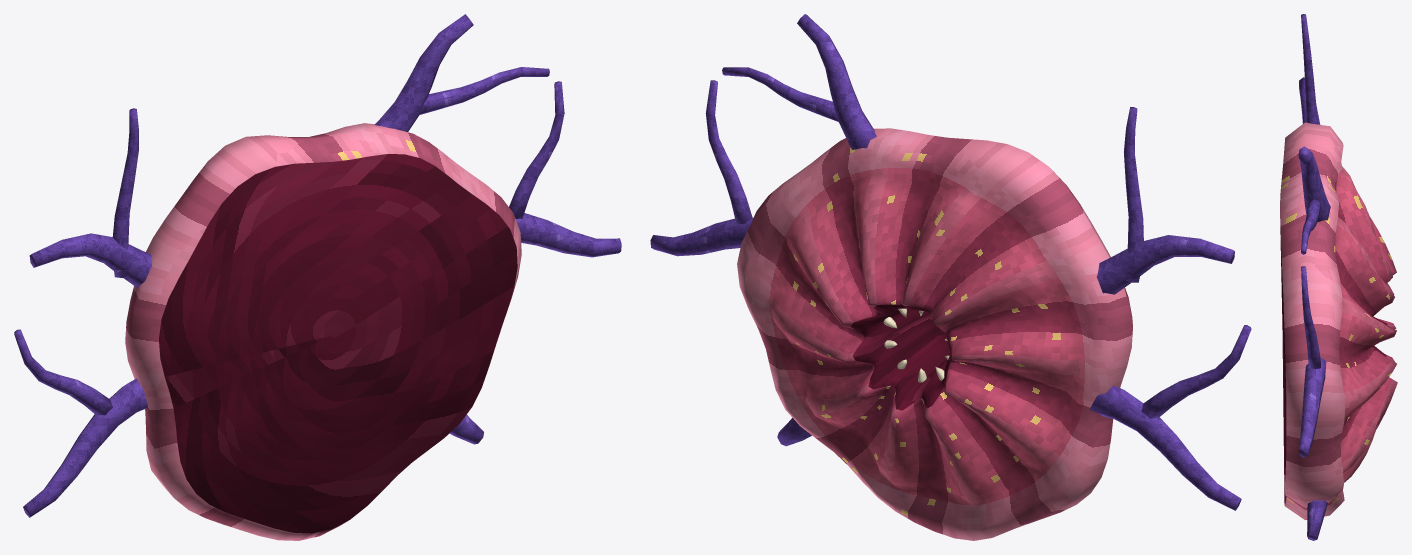
The model's file is s_sphincter.glb.
3 renders of one model, left to right at view 1: azimuth 30°, elevation 25°; view 2: azimuth 150°, elevation 25°; view 3: azimuth 270°, elevation 25°, orthographic. The views are drawn at different scales.
Parts seen in each view (by area): view 1: sphincter_sp_muscle_pulse, sphincter_gut_vein_pulse; view 2: sphincter_sp_muscle_pulse, sphincter_gut_vein_pulse; view 3: sphincter_sp_muscle_pulse, sphincter_gut_vein_pulse.
Boxes of the visible parts, x1=… form: sphincter_sp_muscle_pulse: x1=125, y1=123, x2=521, y2=540; sphincter_gut_vein_pulse: x1=14, y1=14, x2=621, y2=517; sphincter_sp_muscle_pulse: x1=737, y1=128, x2=1132, y2=540; sphincter_gut_vein_pulse: x1=650, y1=14, x2=1251, y2=510; sphincter_sp_muscle_pulse: x1=1280, y1=122, x2=1397, y2=519; sphincter_gut_vein_pulse: x1=1298, y1=14, x2=1330, y2=540.
Size of the model in its own units: 5.17 by 3.97 by 0.9801.
4 materials, 4 textured.
